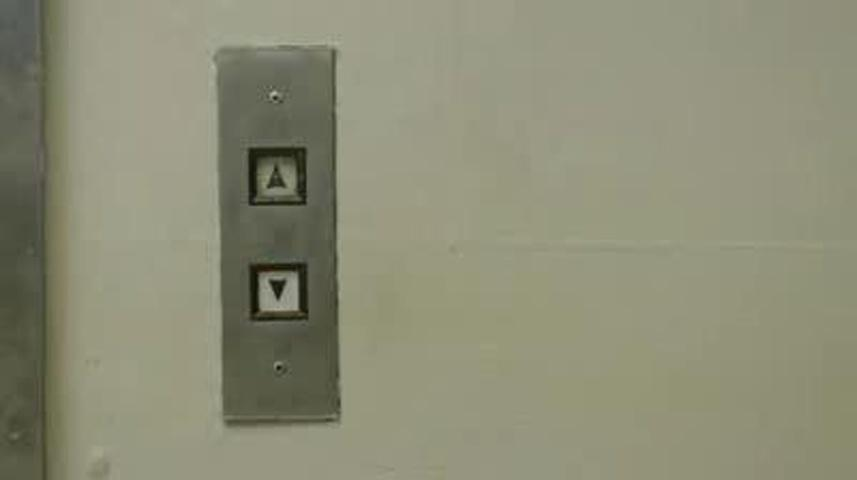down: (245, 256, 310, 323)
up: (244, 141, 309, 208)
